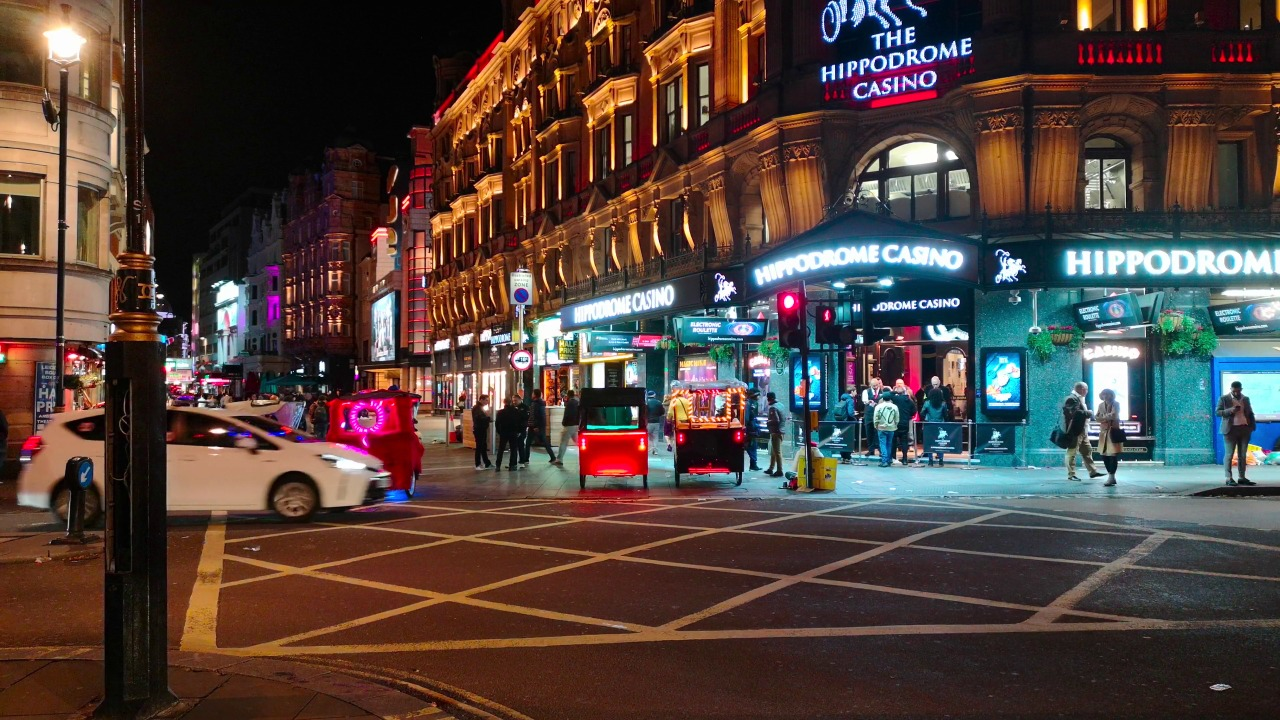car: (20, 408, 393, 525), (321, 388, 426, 504), (671, 380, 747, 491), (576, 386, 650, 494), (220, 398, 305, 438)
person: (1053, 378, 1107, 485), (1215, 381, 1264, 491), (1094, 389, 1129, 491), (833, 385, 867, 466), (466, 389, 497, 474), (527, 387, 559, 468), (923, 387, 951, 469), (872, 394, 902, 467), (742, 385, 766, 473), (494, 393, 519, 473), (889, 386, 913, 467), (763, 392, 785, 478), (863, 378, 883, 458), (560, 386, 576, 465), (643, 391, 661, 455), (510, 394, 526, 465), (667, 387, 695, 427), (660, 392, 672, 455), (889, 372, 911, 394), (926, 375, 947, 394), (319, 399, 328, 433), (308, 396, 317, 417), (876, 376, 884, 390)
